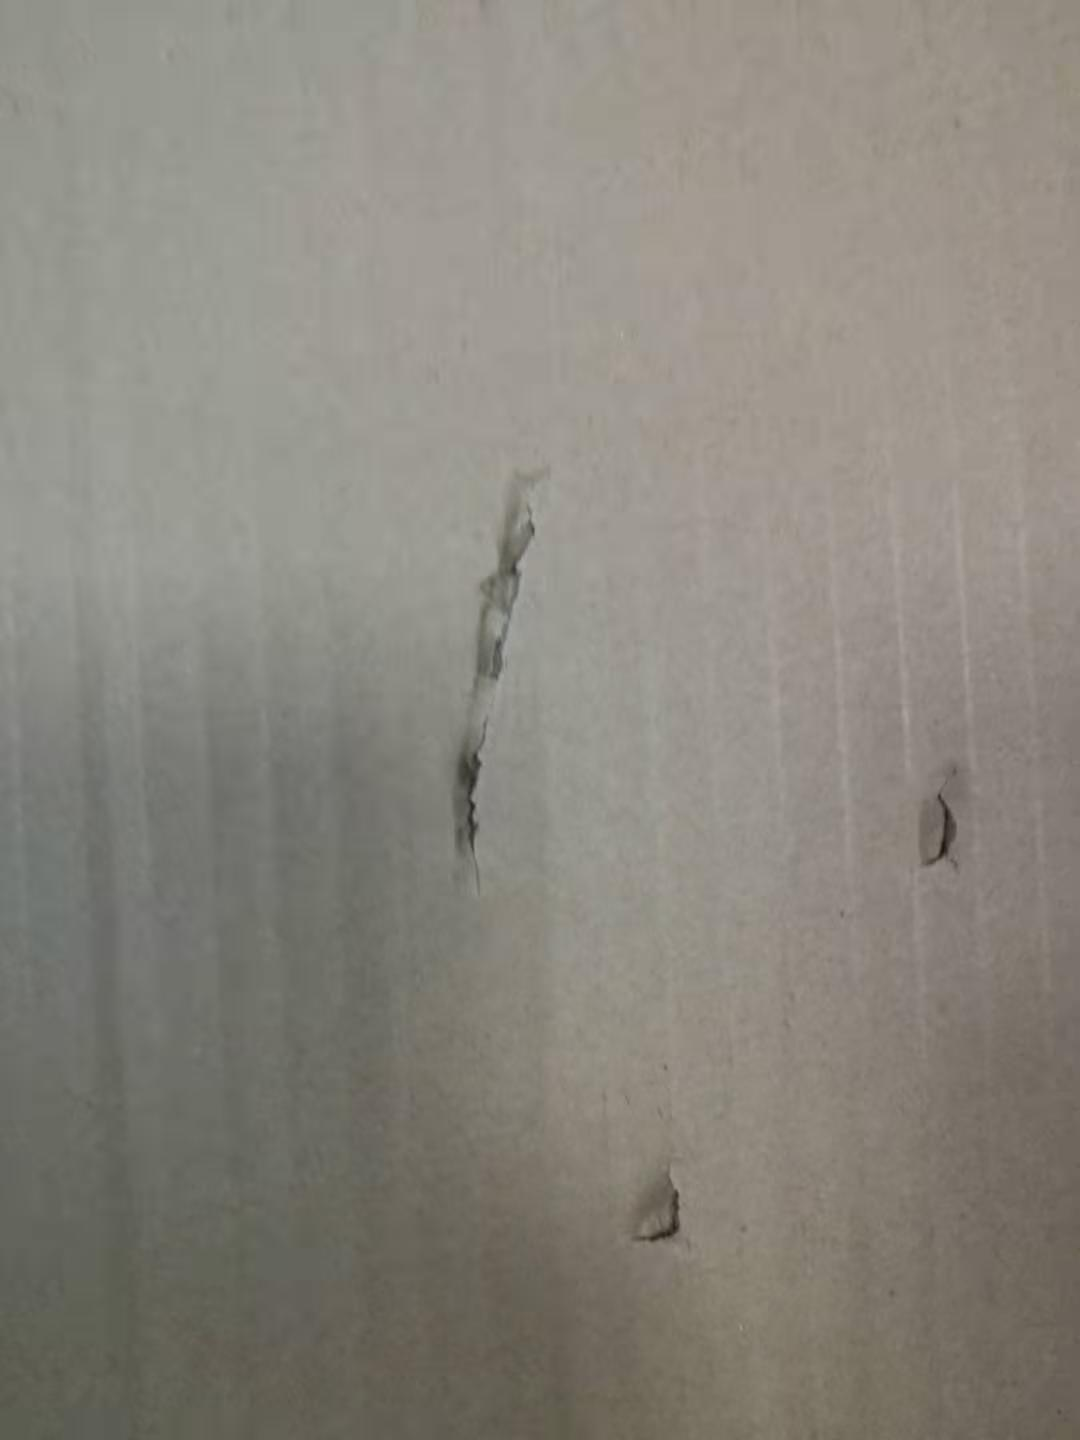defect: (399, 421, 604, 922), (875, 728, 1009, 930), (597, 1142, 732, 1282)
